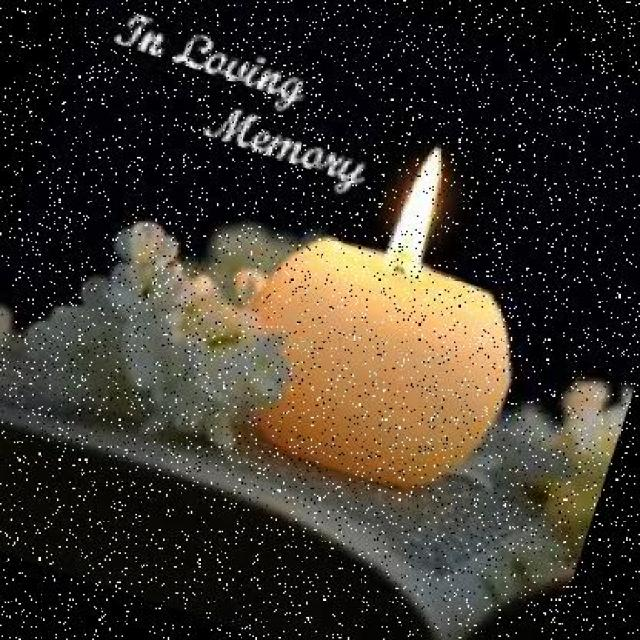fire: (377, 131, 469, 280)
